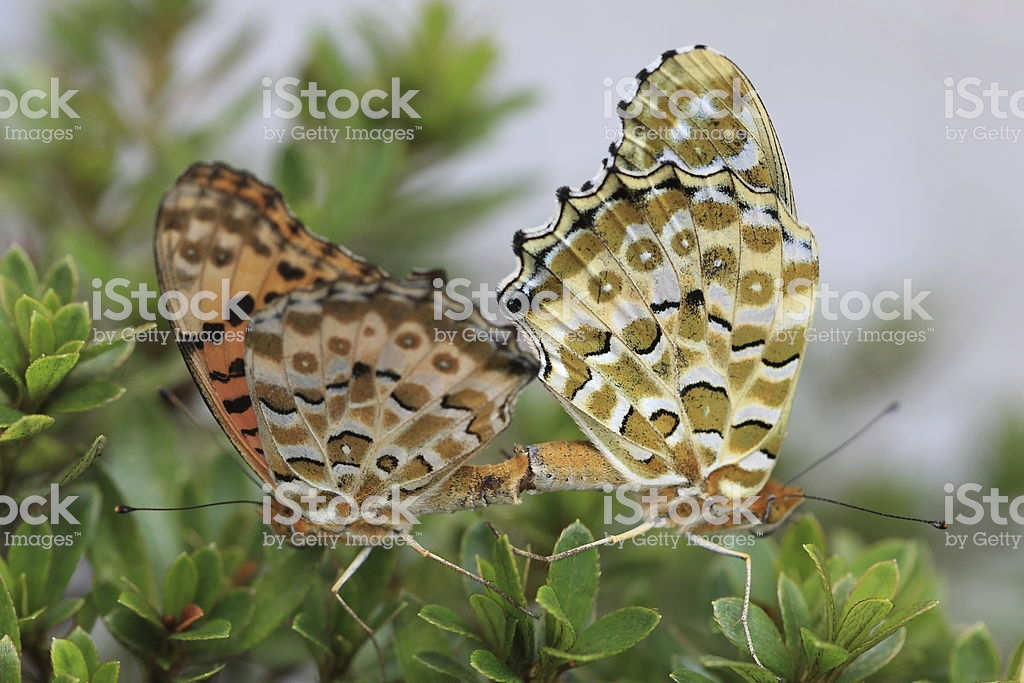Argyreus hyperbius: (495, 41, 959, 665), (109, 156, 536, 635)
butterfly: (497, 43, 961, 667), (111, 158, 538, 637)
